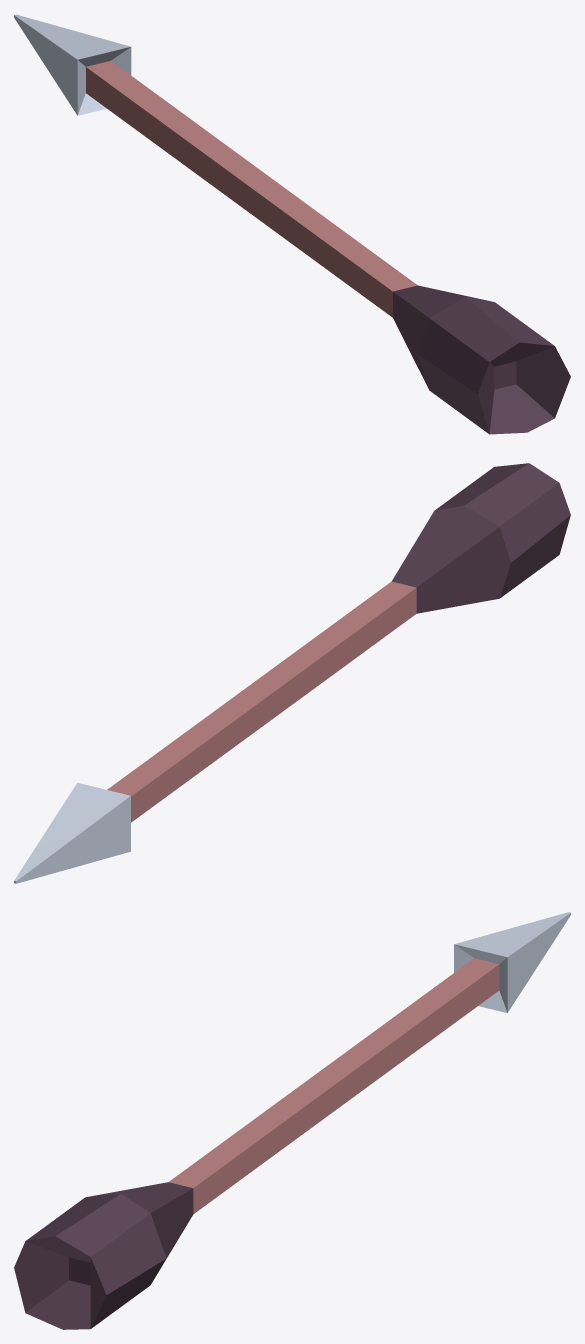
File: arrow.fbx
3 renders of one model, top to bottom at view 1: azimuth 30°, elevation 25°; view 2: azimuth 150°, elevation 25°; view 3: azimuth 330°, elevation 25°, orthographic.
Parts seen in each view (by area): view 1: Cube.145; view 2: Cube.145; view 3: Cube.145.
Part boxes in pixels (left/top/right/bottom): Cube.145: left=14, top=14, right=570, bottom=434; Cube.145: left=14, top=463, right=570, bottom=883; Cube.145: left=14, top=912, right=570, bottom=1329.
Bounding box in the file's own units: 9.91 × 9.38 × 94.19.
